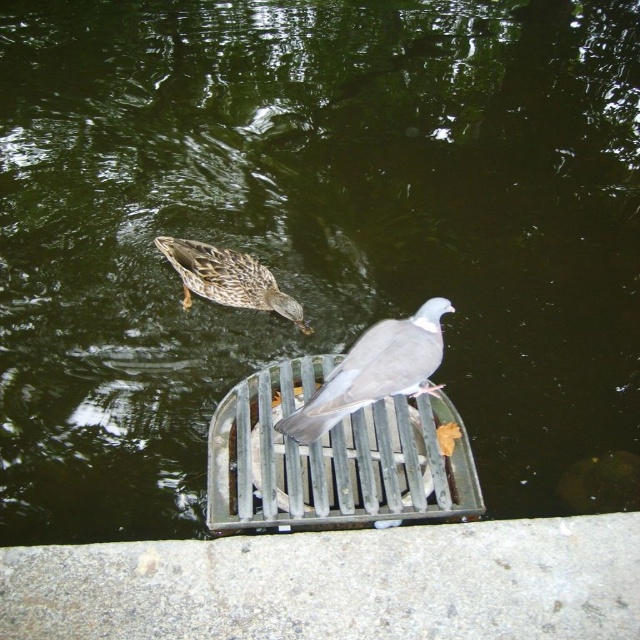Duck: (164, 219, 329, 327)
